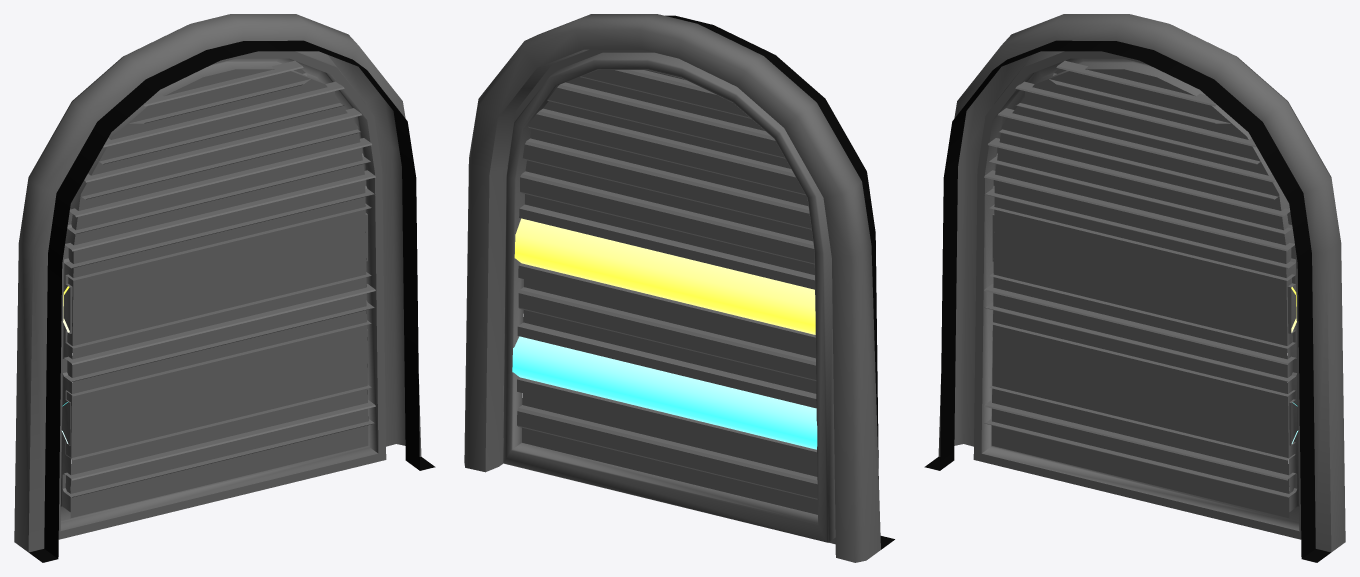
The model's file is PH_mesh_Rooftop_Door.fbx.
The picture shows the model from 3 angles, left to right: view 1: azimuth 30°, elevation 25°; view 2: azimuth 150°, elevation 25°; view 3: azimuth 330°, elevation 25°; orthographic projection. The views are drawn at different scales.
Visible parts, largest first — view 1: mesh_Rooftop_Door; view 2: mesh_Rooftop_Door; view 3: mesh_Rooftop_Door.
Boxes of the visible parts, x1,y1,x2,y2 form: mesh_Rooftop_Door: (14,14,435,562); mesh_Rooftop_Door: (464,14,894,562); mesh_Rooftop_Door: (924,14,1345,562).
Size of the model in its own units: 2.97 by 3.43 by 0.4394.
